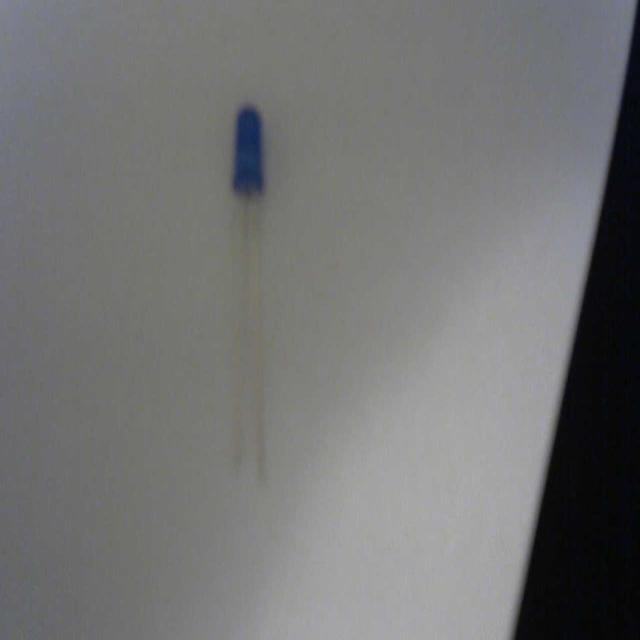blue_led: (232, 103, 264, 195)
